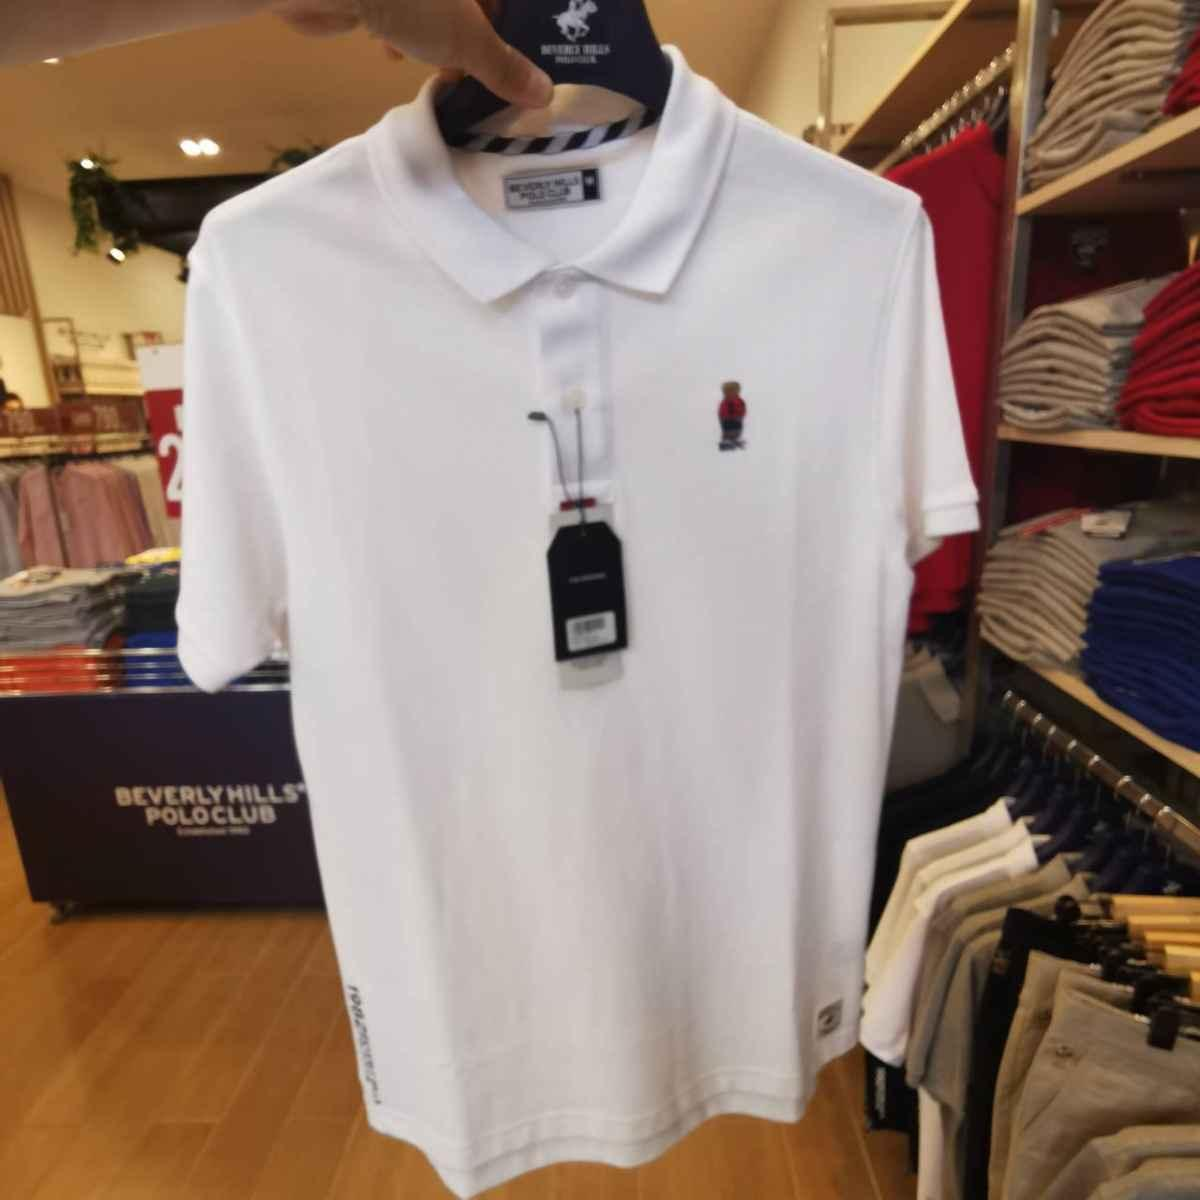Tshirt: (166, 96, 959, 1132)
